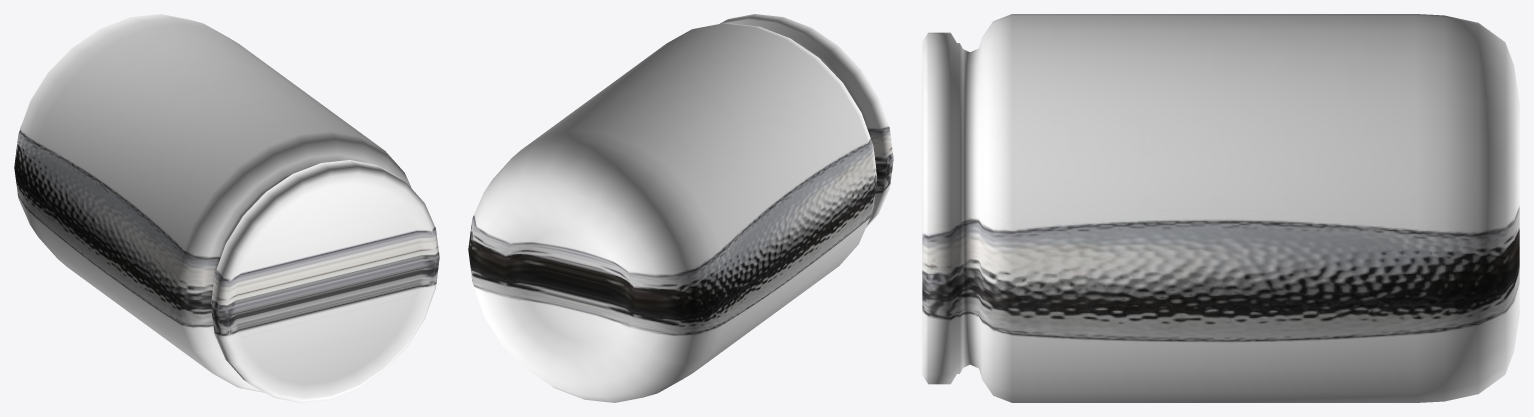
The model's file is model_align.obj.
The picture shows the model from 3 angles, left to right: view 1: azimuth 30°, elevation 25°; view 2: azimuth 150°, elevation 25°; view 3: azimuth 270°, elevation 25°; orthographic projection. The views are drawn at different scales.
Parts seen in each view (by area): view 1: mesh1_mesh1-geometry; view 2: mesh1_mesh1-geometry; view 3: mesh1_mesh1-geometry.
Part boxes in pixels (x1,y1,x2,y2): mesh1_mesh1-geometry: (14, 14, 439, 402); mesh1_mesh1-geometry: (468, 14, 893, 402); mesh1_mesh1-geometry: (922, 14, 1519, 402).
Size of the model in its own units: 0.0745 by 0.0745 by 0.1139.
